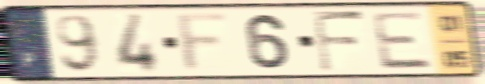4: (114, 11, 160, 75)
6: (244, 12, 292, 72)
9: (54, 13, 104, 75)
E: (369, 10, 437, 72)
F: (310, 8, 369, 75), (174, 10, 233, 76)
